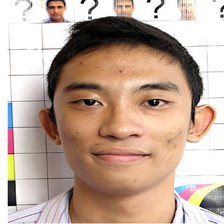no_mask: (54, 54, 191, 188)
